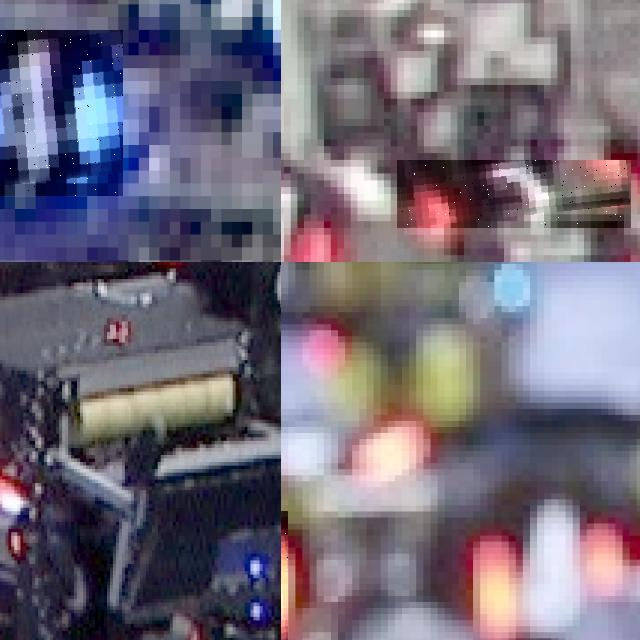B4: (0, 29, 123, 196)
R1: (397, 160, 631, 228), (281, 153, 344, 262)
R4: (465, 493, 622, 640)
